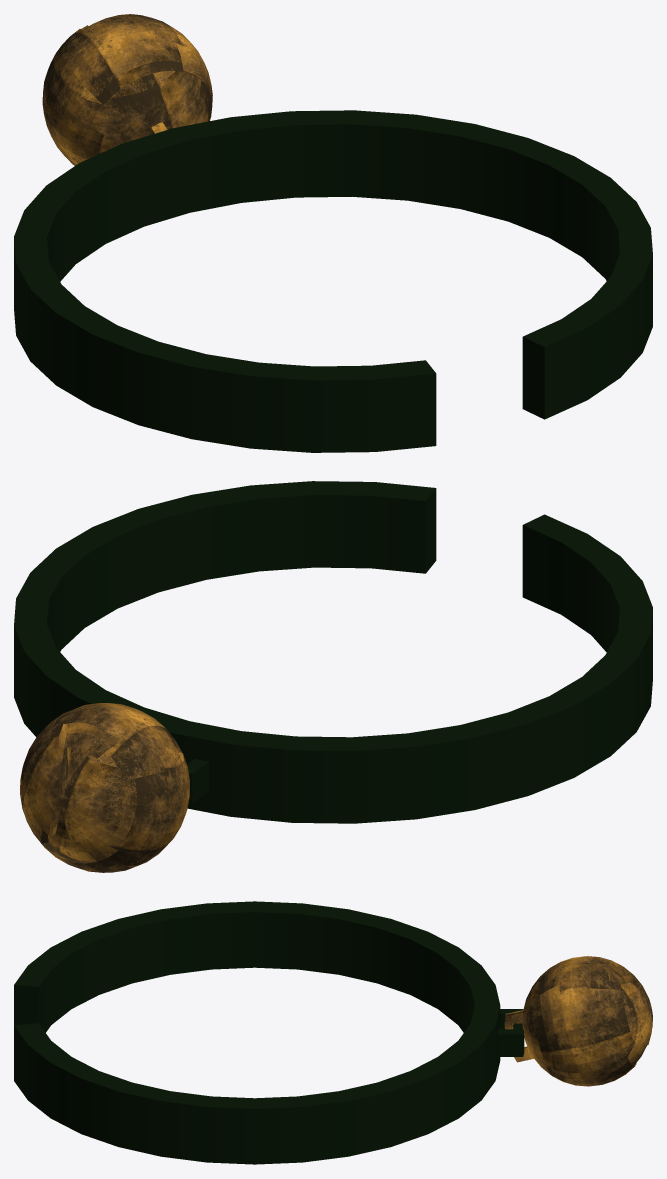
Rendered from bell.fbx.
The picture shows the model from 3 angles, top to bottom: view 1: azimuth 30°, elevation 25°; view 2: azimuth 150°, elevation 25°; view 3: azimuth 270°, elevation 25°; orthographic projection. The views are drawn at different scales.
Parts seen in each view (by area): view 1: Cylinder, Sphere; view 2: Cylinder, Sphere; view 3: Cylinder, Sphere.
Boxes of the visible parts, x1,y1,x2,y2 form: Cylinder: (14,110,652,452); Sphere: (42,14,212,165); Cylinder: (14,481,652,823); Sphere: (20,703,189,872); Cylinder: (14,901,524,1164); Sphere: (504,956,652,1086).
Size of the model in its own units: 200 by 53.11 by 260.
